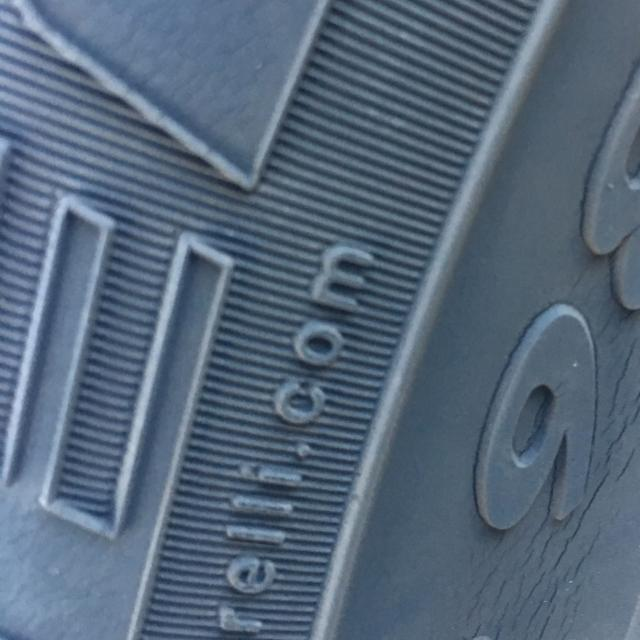Cracks: (459, 153, 640, 640)
